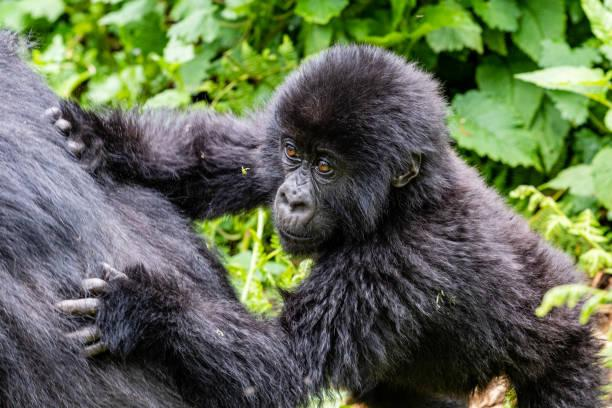goriile_montagne: (38, 49, 600, 396)
